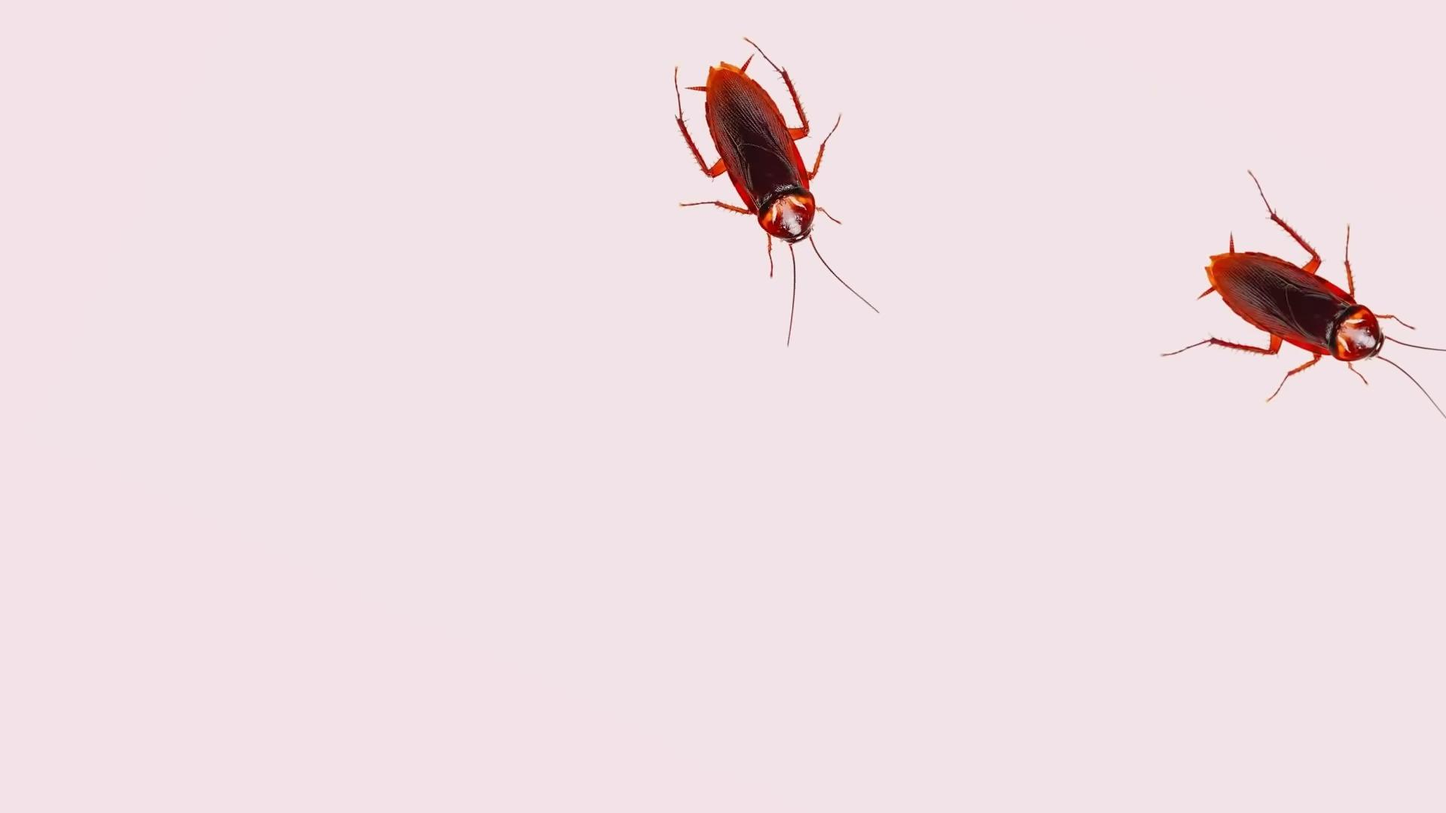cockroach: (1128, 169, 1441, 402), (669, 28, 876, 322)
